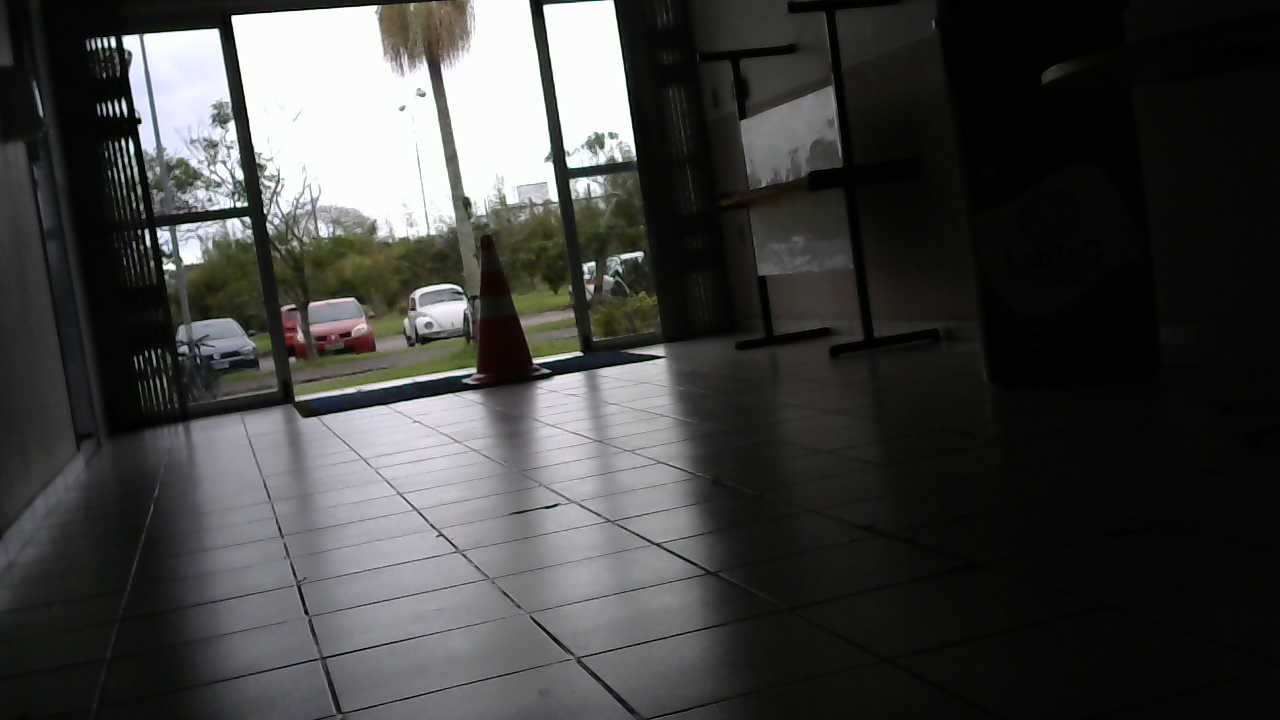cone: (464, 235, 554, 383)
